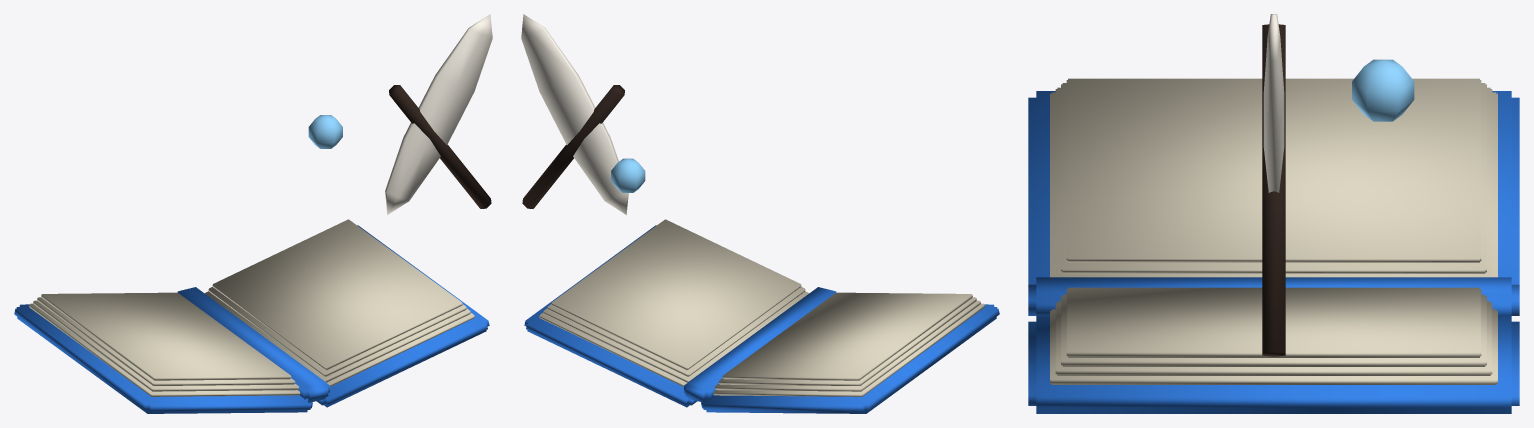
Rendered from torre-livro.glb.
3 renders of one model, left to right at view 1: azimuth 30°, elevation 25°; view 2: azimuth 150°, elevation 25°; view 3: azimuth 270°, elevation 25°, orthographic. The views are drawn at different scales.
Parts seen in each view (by area): view 1: TorreLivro; view 2: TorreLivro; view 3: TorreLivro.
Part boxes in pixels (x1,y1,x2,y2): TorreLivro: [14, 14, 492, 413]; TorreLivro: [521, 14, 999, 413]; TorreLivro: [1028, 14, 1519, 413].
Size of the model in its own units: 1.59 by 1.07 by 0.9.
